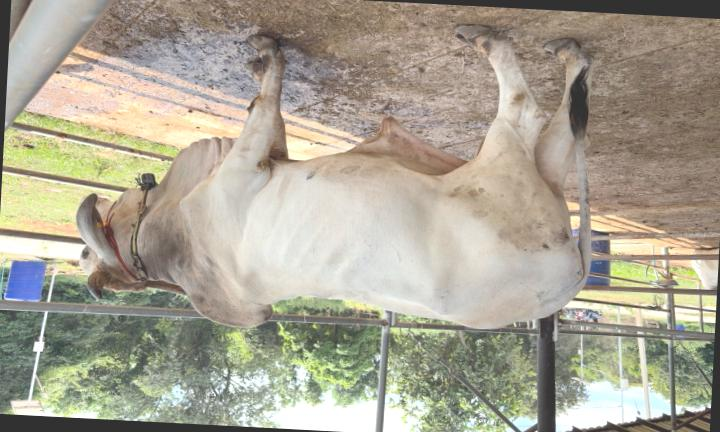Brahman: (76, 25, 593, 328)
